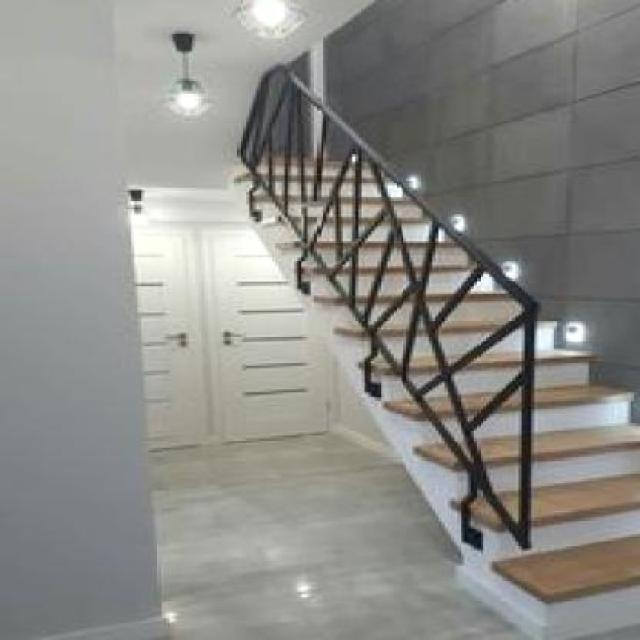stair: (201, 101, 637, 630)
